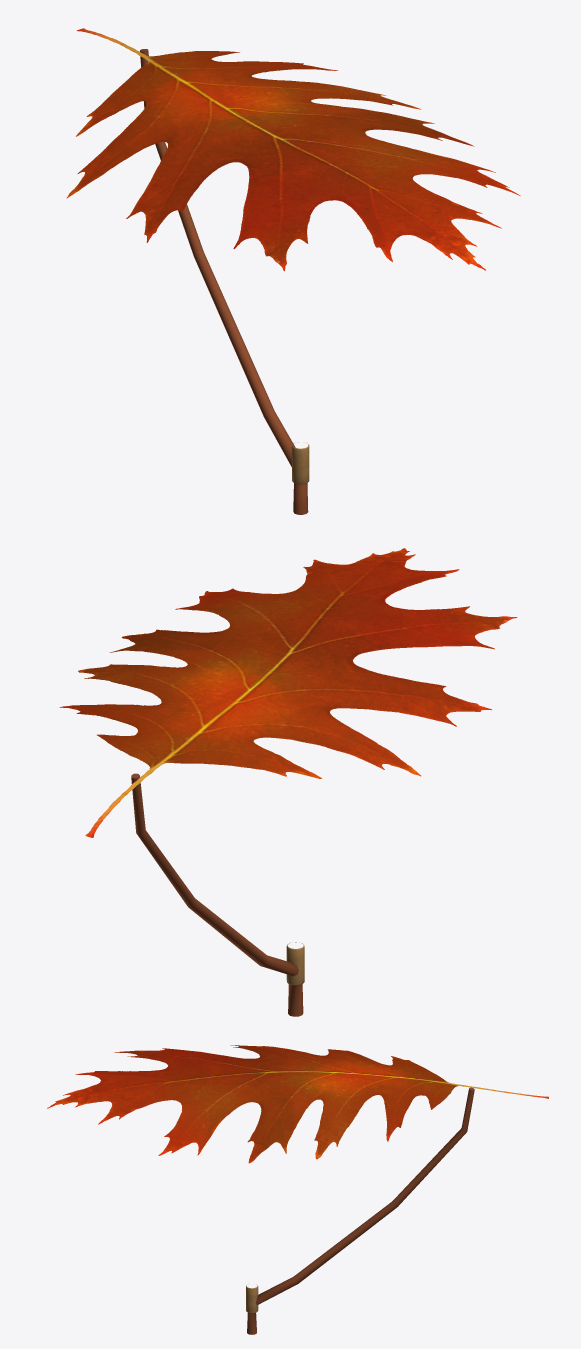
File: glider_oak_leaf.glb
3 views of the same model, one above another, from view 1: azimuth 30°, elevation 25°; view 2: azimuth 150°, elevation 25°; view 3: azimuth 270°, elevation 25° (orthographic). The views are drawn at different scales.
Visible parts, largest first — view 1: glider_oak_leaf; view 2: glider_oak_leaf; view 3: glider_oak_leaf.
Part boxes in pixels (box(x1,y1,x2,y2)): glider_oak_leaf: box(66, 28, 520, 514); glider_oak_leaf: box(59, 548, 517, 1016); glider_oak_leaf: box(47, 1045, 548, 1334).
Bounding box in the file's own units: 1.42 × 1.13 × 2.2.
Materials: 2 (2 with a texture image).
